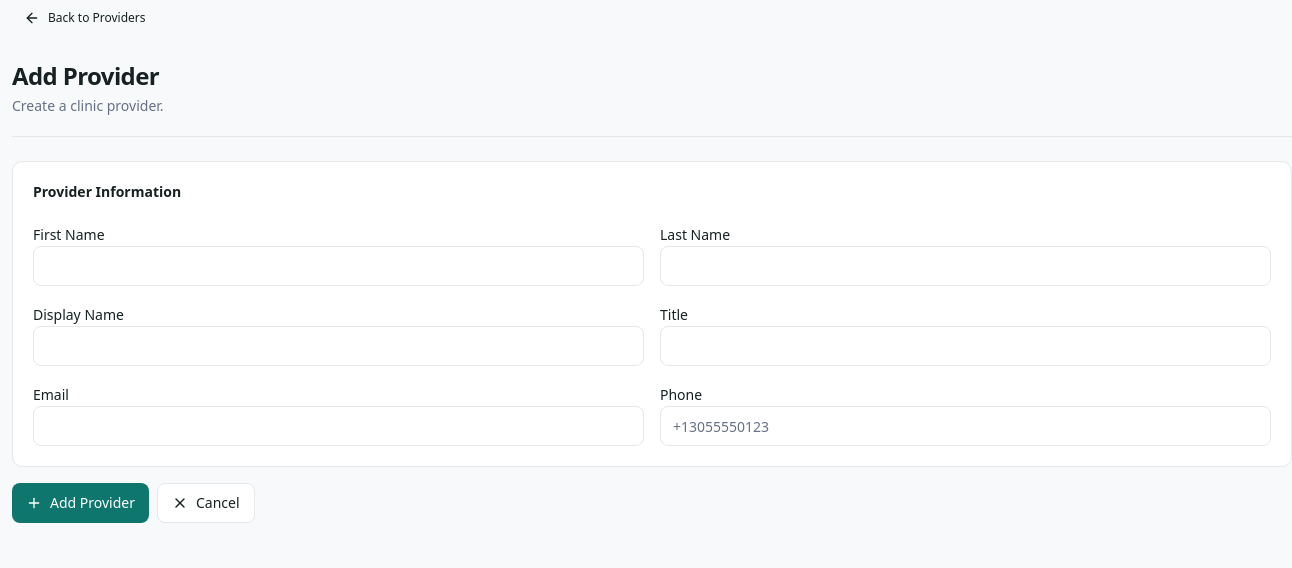
Test case: unified clinic configuration edits › rejects provider phone gibberish client-side and clears only that error
The image size is (1292, 568).
Type "Ada" into the field labelled "First Name" at (338, 266), box [33,246,644,286]
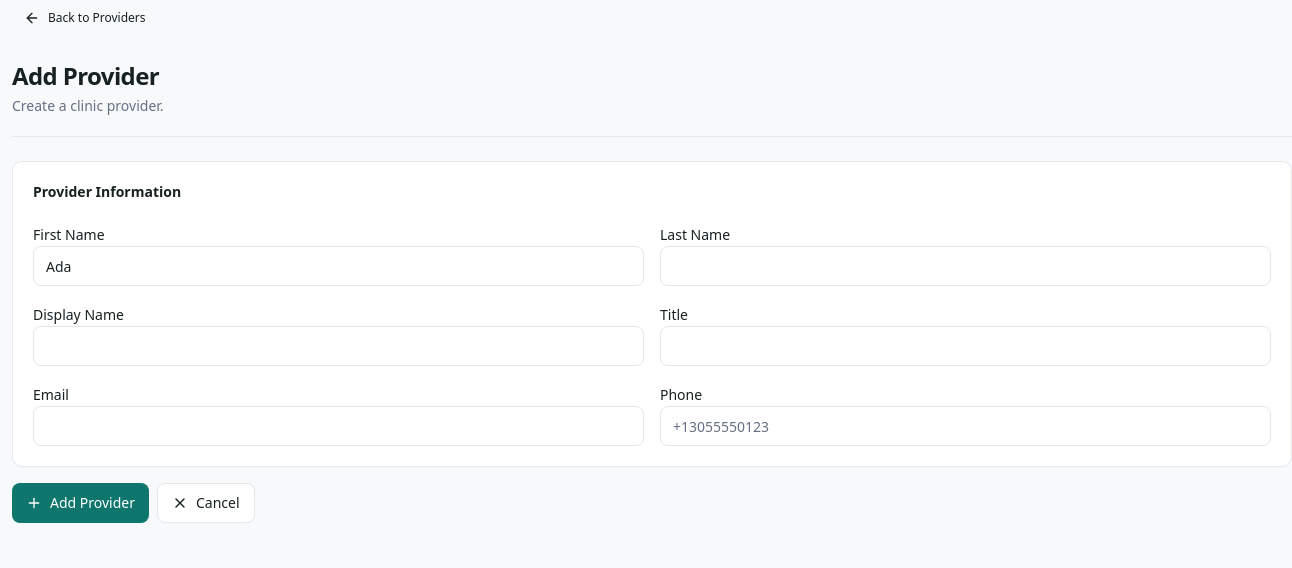
Type "Lovelace" into the field labelled "Last Name" at (966, 266), box [660,246,1271,286]
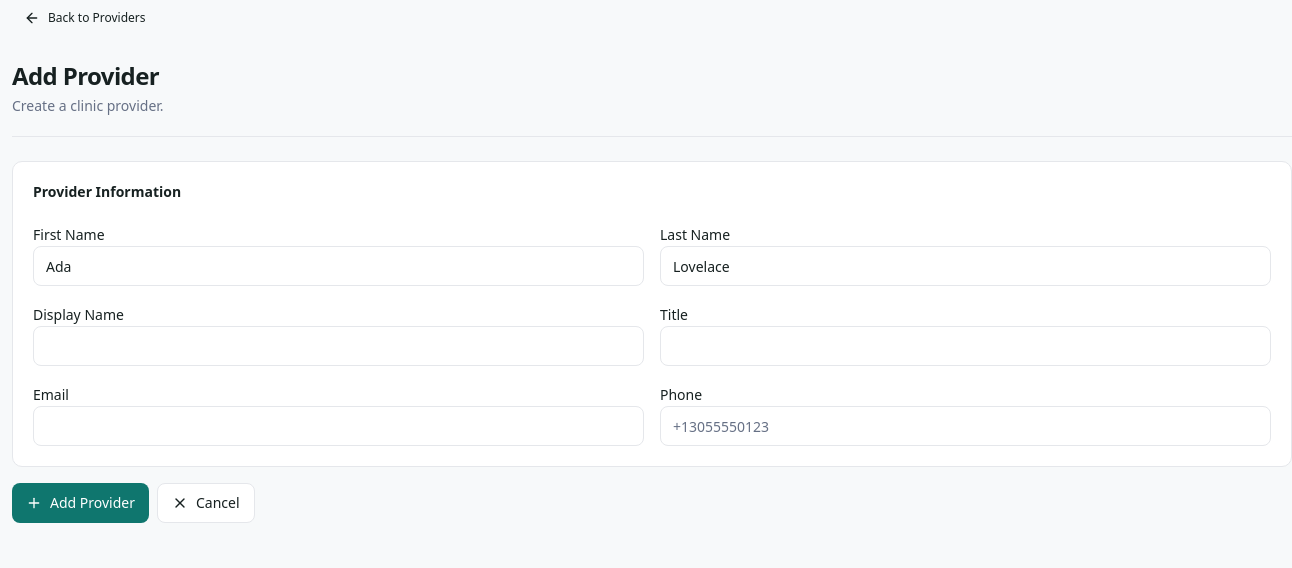
Type "asdfasdf" into the field labelled "Phone" at (966, 426), box [660,406,1271,446]
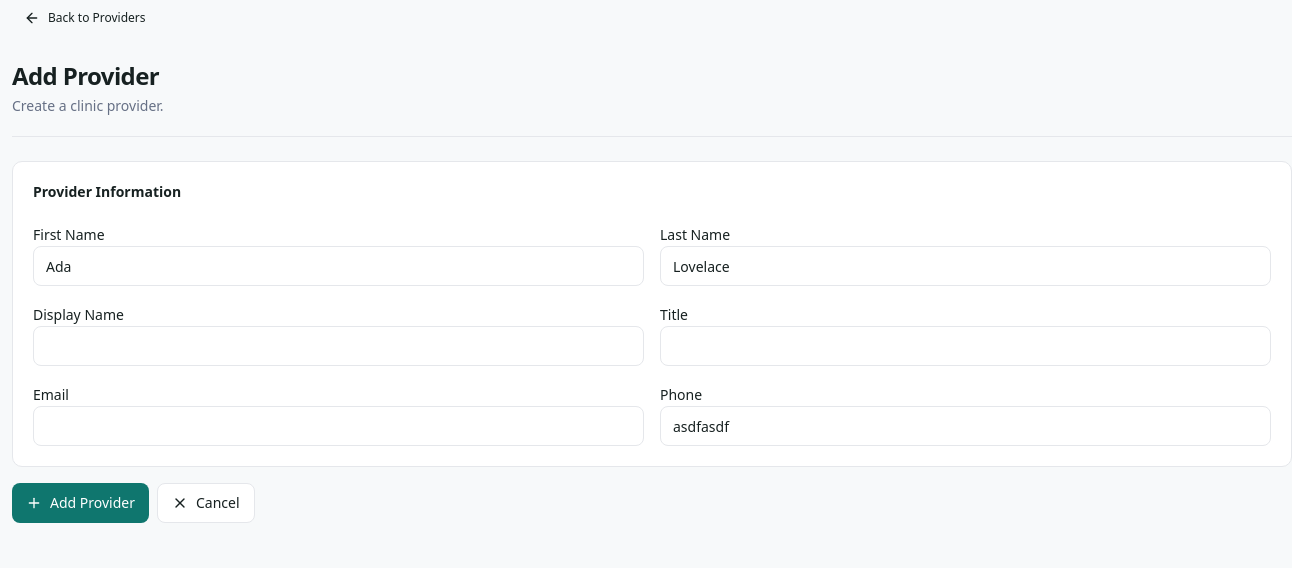
Click the button "Add Provider" at (80, 503), box [12,483,149,523]
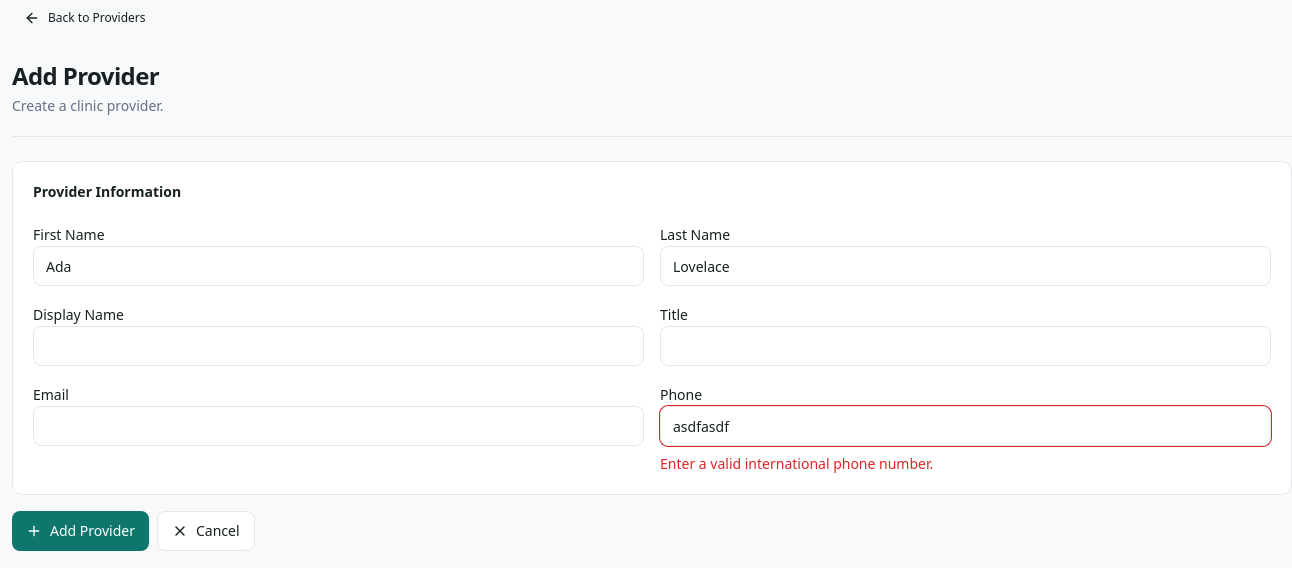
Check: the text "Enter a valid international phone number." is shown, box [660,454,933,473]
Replace the text in the field labelled "Phone" with "+13055550123" at (966, 426), box [660,406,1271,446]
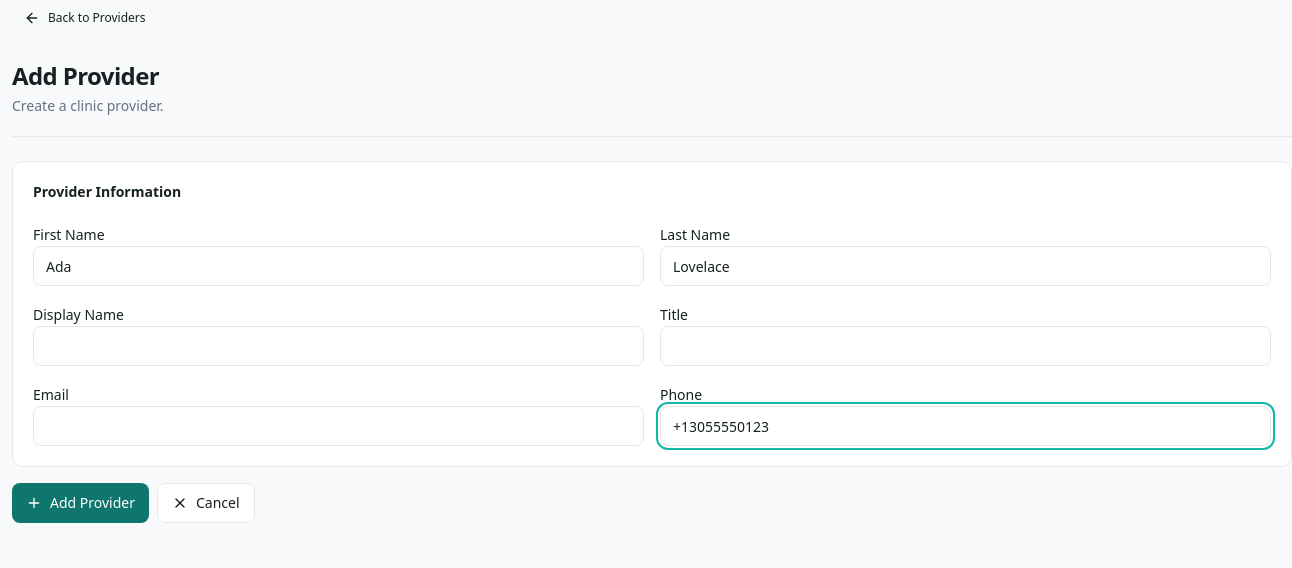
Check: the text "Enter a valid international phone number." is gone
